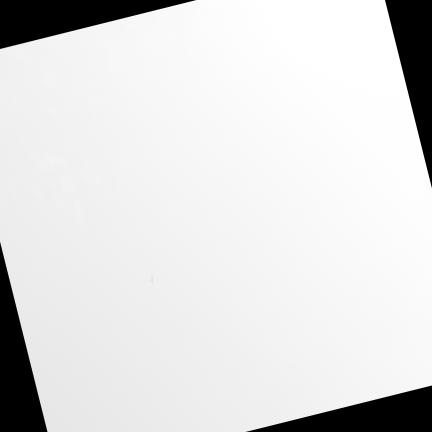Shahed: (150, 273, 153, 285)
